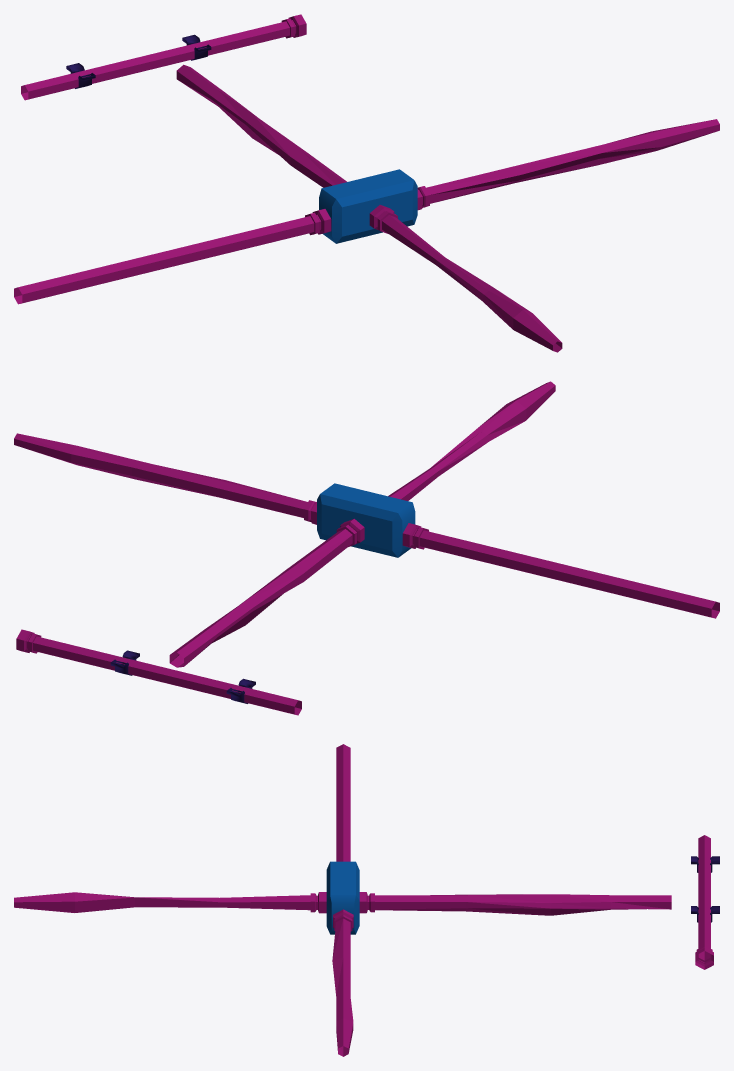
File: Tuberias.FBX
3 views of the same model, one above another, from view 1: azimuth 30°, elevation 25°; view 2: azimuth 150°, elevation 25°; view 3: azimuth 270°, elevation 25° (orthographic). The views are drawn at different scales.
Parts seen in each view (by area): view 1: Box001, Object001; view 2: Box001, Object001; view 3: Box001, Object001.
Boxes of the visible parts, box(x1,y1,x2,y2) form: Box001: box(14, 64, 719, 352); Object001: box(21, 14, 306, 100); Box001: box(14, 381, 719, 667); Object001: box(16, 629, 301, 715); Box001: box(14, 744, 671, 1056); Object001: box(691, 835, 719, 969).
Bounding box in the file's own units: 1522 × 93.32 × 1515.
